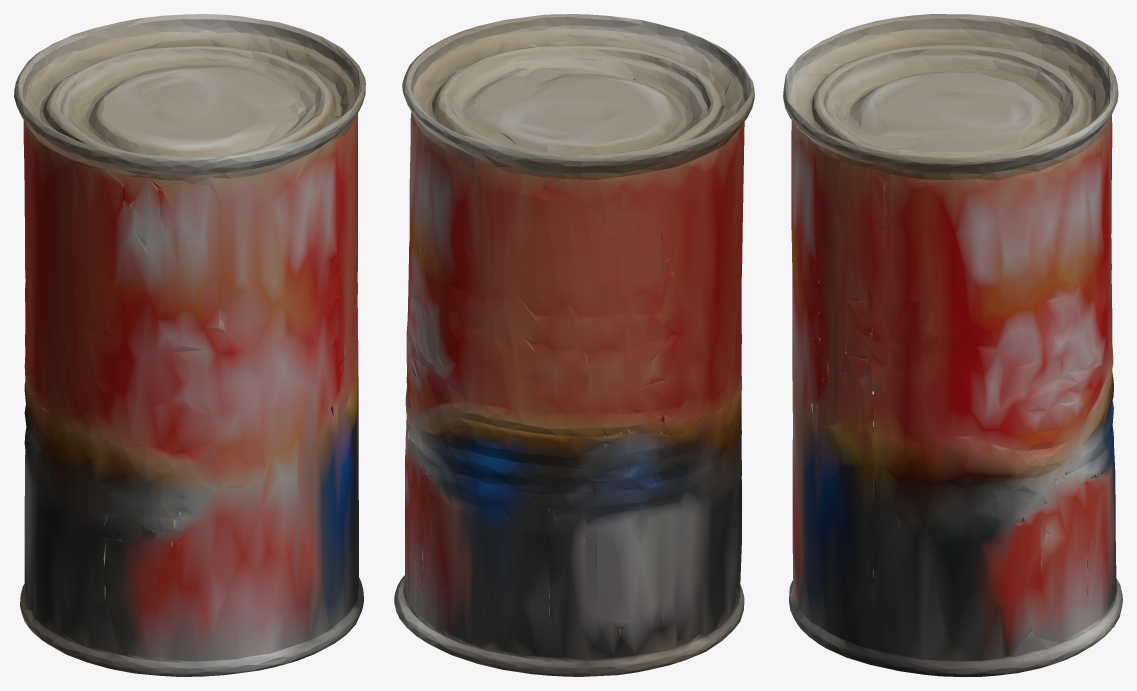
3 views of the same model, side by side, from view 1: azimuth 30°, elevation 25°; view 2: azimuth 150°, elevation 25°; view 3: azimuth 270°, elevation 25° (orthographic).
Visible parts, largest first — view 1: geometry_0; view 2: geometry_0; view 3: geometry_0.
Part boxes in pixels (x1=…): geometry_0: x1=14, y1=14, x2=365, y2=676; geometry_0: x1=394, y1=14, x2=754, y2=676; geometry_0: x1=783, y1=14, x2=1122, y2=676.
Size of the model in its own units: 0.0731 by 0.118 by 0.0702.
